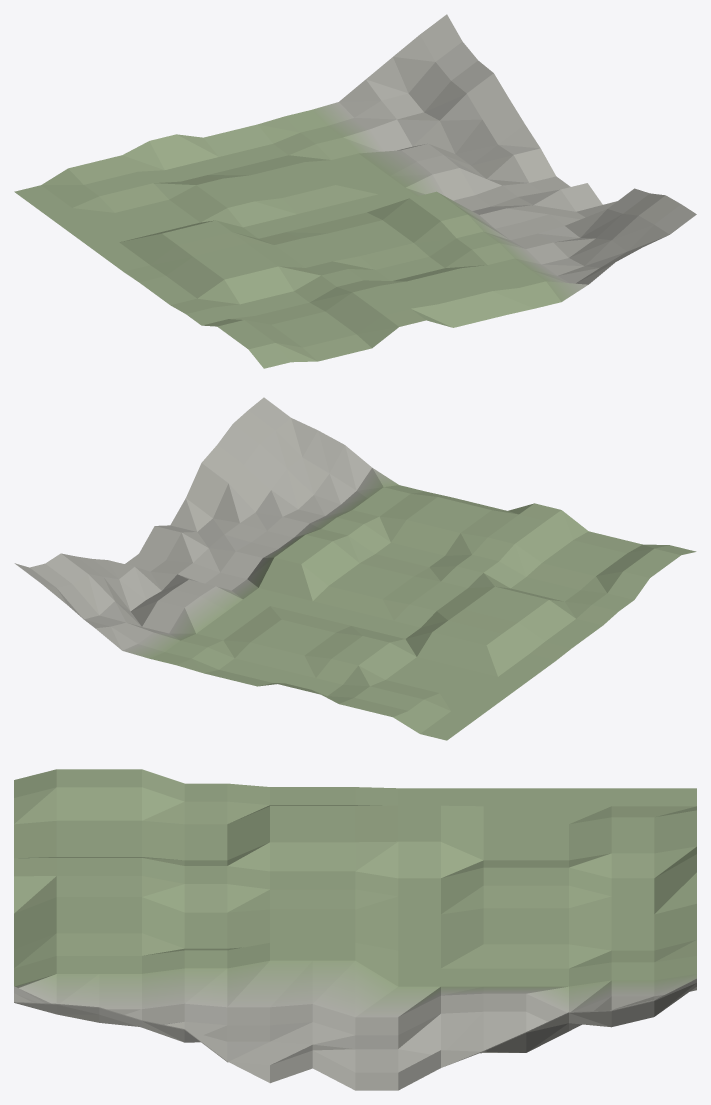
3 renders of one model, top to bottom at view 1: azimuth 30°, elevation 25°; view 2: azimuth 150°, elevation 25°; view 3: azimuth 270°, elevation 25°, orthographic. The views are drawn at different scales.
Size of the model in its own units: 32 by 5.88 by 32.
